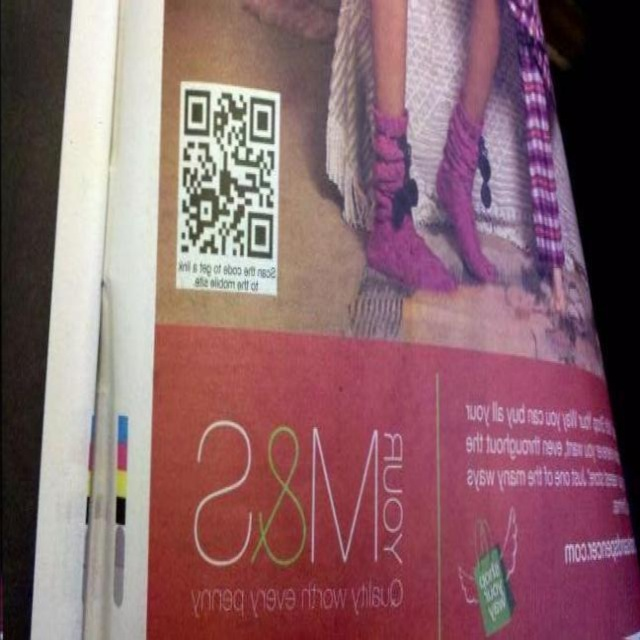qr-code: (181, 88, 276, 257)
